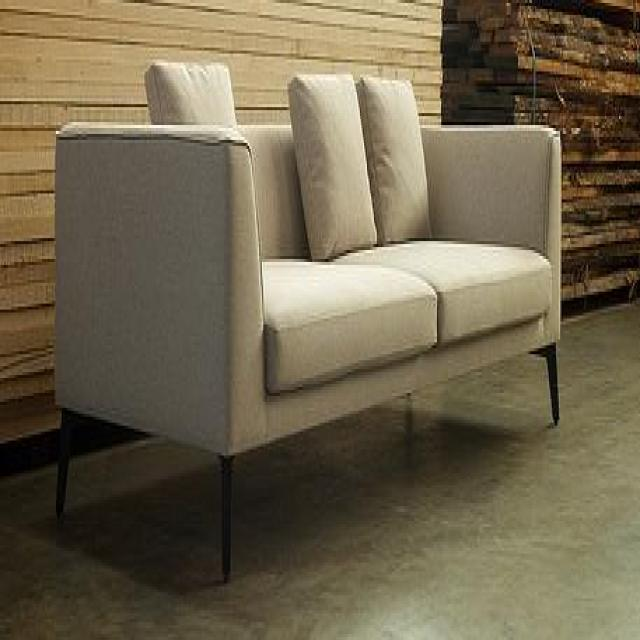sofa: (52, 49, 565, 573)
